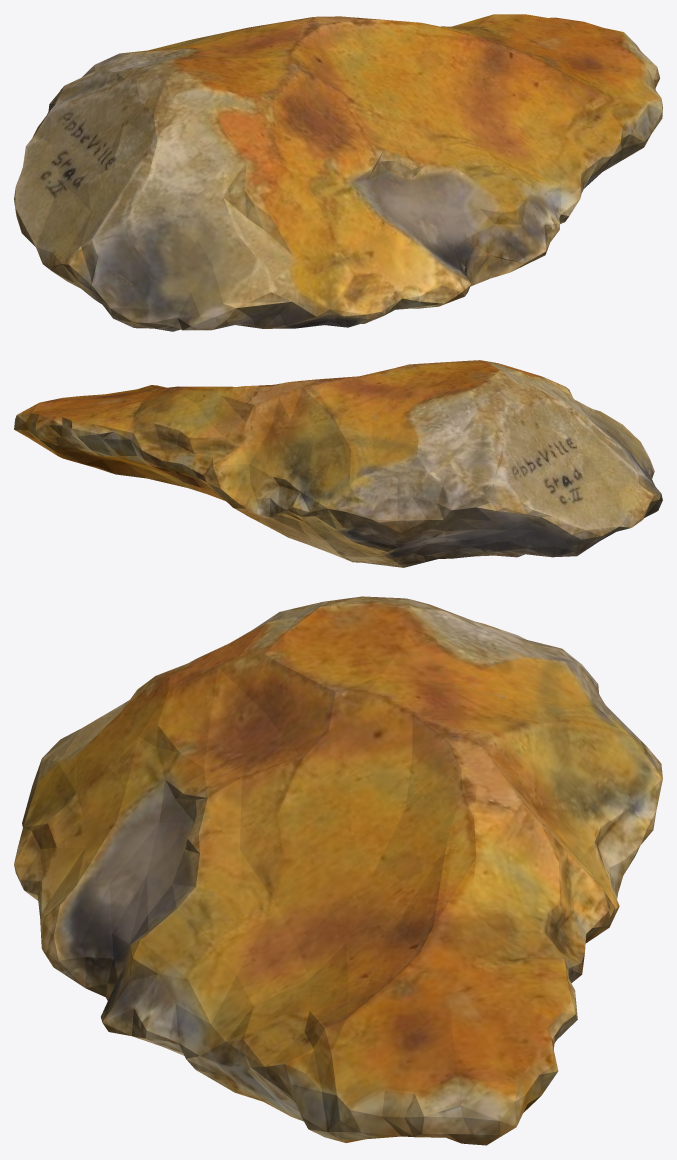
The model's file is acheul.glb.
The picture shows the model from 3 angles, top to bottom: view 1: azimuth 30°, elevation 25°; view 2: azimuth 150°, elevation 25°; view 3: azimuth 270°, elevation 25°; orthographic projection. The views are drawn at different scales.
Size of the model in its own units: 0.1672 by 0.0517 by 0.1039.
1 material, 1 textured.
